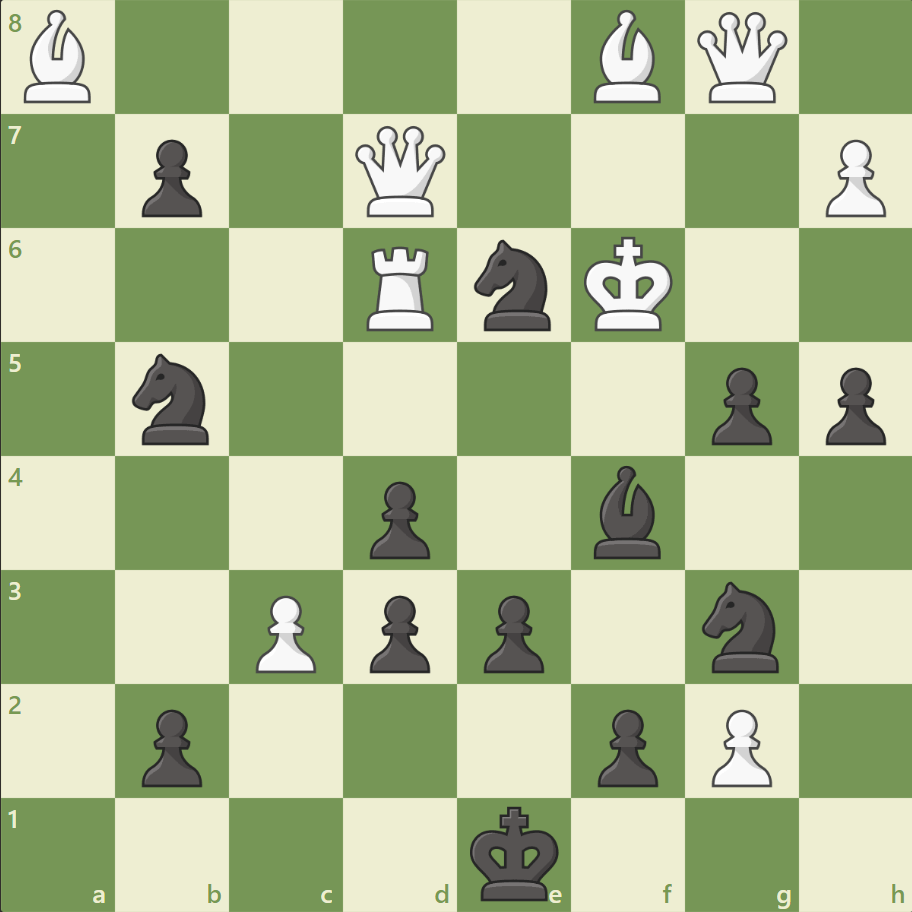B: (17, 6, 101, 109), (585, 6, 669, 109)
K: (579, 231, 679, 339)
P: (247, 586, 322, 677), (701, 700, 776, 791), (815, 132, 889, 223)
Q: (351, 122, 450, 222), (691, 9, 790, 108)
R: (360, 239, 442, 336)
b: (585, 460, 669, 563)
k: (465, 798, 565, 906)
n: (124, 348, 222, 450), (465, 234, 562, 337), (692, 575, 789, 677)
p: (133, 132, 208, 223), (701, 359, 776, 450), (474, 586, 549, 677), (133, 700, 208, 791), (815, 359, 889, 450), (361, 473, 435, 564), (361, 586, 435, 677), (588, 700, 662, 791)
